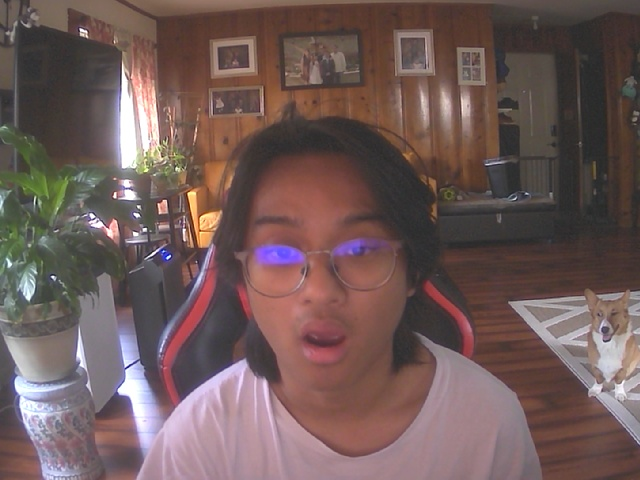fear: (231, 117, 431, 400)
